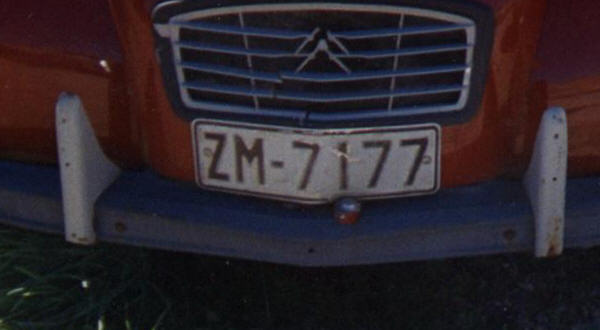license_plate: (191, 118, 443, 203)
